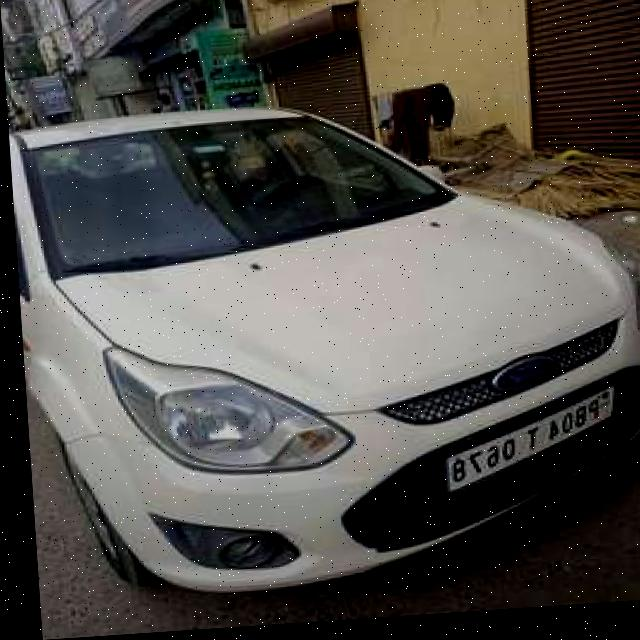plate: (430, 389, 617, 502)
